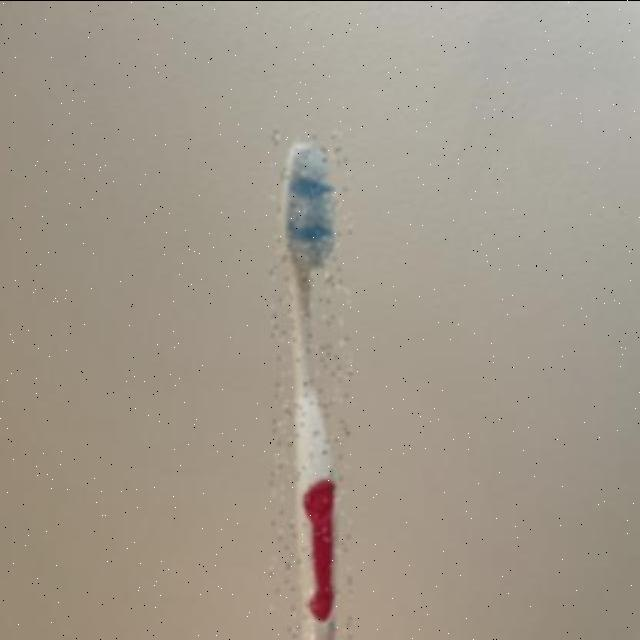toothbrush: (271, 130, 351, 640)
